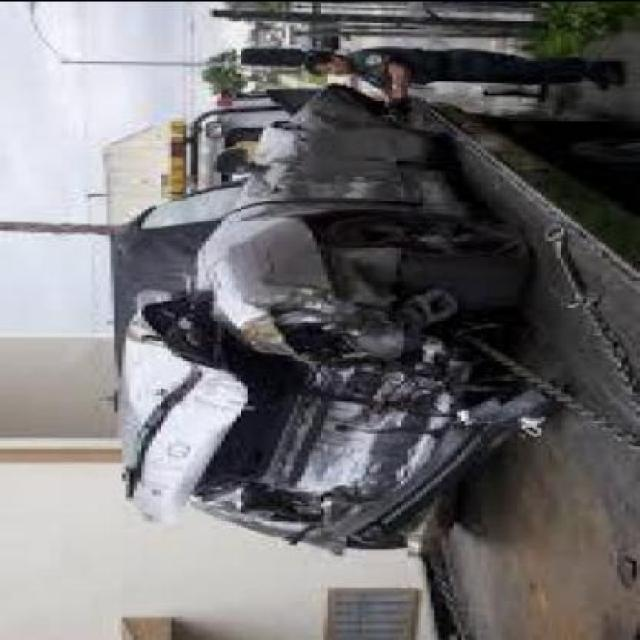damage: (122, 210, 557, 548)
